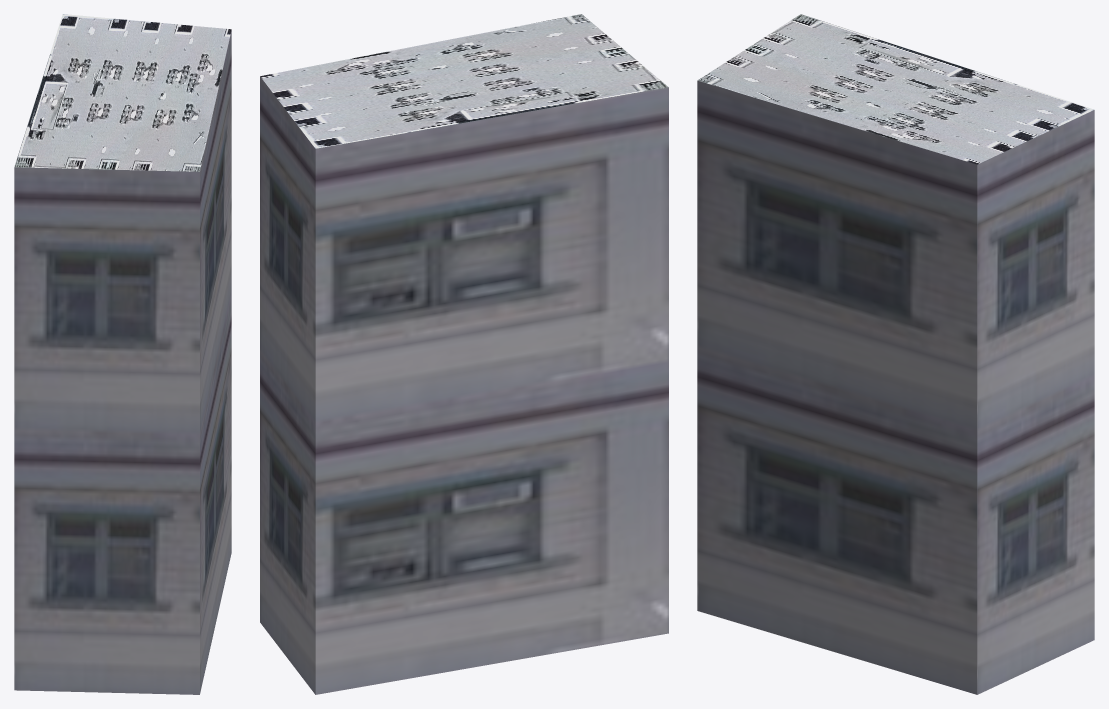
Rendered from ResTex__740.fbx.
3 renders of one model, left to right at view 1: azimuth 30°, elevation 25°; view 2: azimuth 150°, elevation 25°; view 3: azimuth 270°, elevation 25°, orthographic. The views are drawn at different scales.
Parts seen in each view (by area): view 1: CityEngineMaterial_1_m, CityEngineMaterial_m; view 2: CityEngineMaterial_1_m, CityEngineMaterial_m; view 3: CityEngineMaterial_1_m, CityEngineMaterial_m.
Part boxes in pixels (bbox=[...]): CityEngineMaterial_1_m: bbox=[14, 30, 231, 694]; CityEngineMaterial_m: bbox=[14, 14, 231, 171]; CityEngineMaterial_1_m: bbox=[260, 76, 668, 694]; CityEngineMaterial_m: bbox=[260, 14, 668, 148]; CityEngineMaterial_1_m: bbox=[697, 80, 1094, 694]; CityEngineMaterial_m: bbox=[697, 14, 1094, 164].
Size of the model in its own units: 3.66 by 6 by 4.08.
2 materials, 2 textured.
